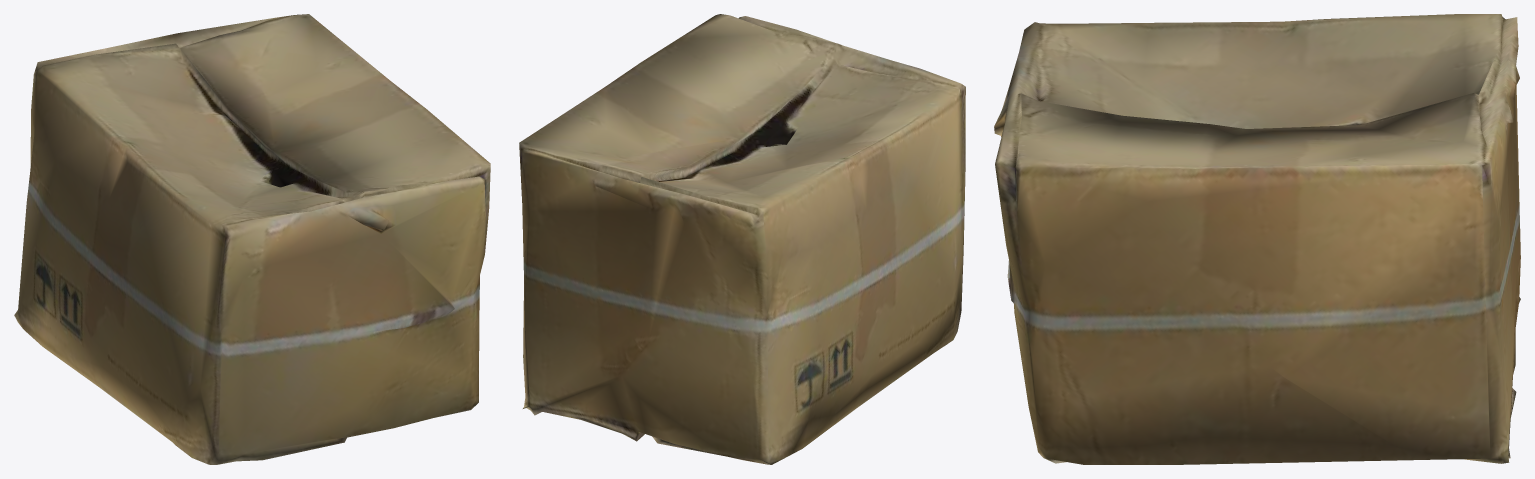
File: cardboard_box_01.glb
3 views of the same model, side by side, from view 1: azimuth 30°, elevation 25°; view 2: azimuth 150°, elevation 25°; view 3: azimuth 270°, elevation 25° (orthographic). The views are drawn at different scales.
Visible parts, largest first — view 1: cardboard_box_01; view 2: cardboard_box_01; view 3: cardboard_box_01.
Part boxes in pixels (x1=…): cardboard_box_01: x1=14, y1=14, x2=490, y2=464; cardboard_box_01: x1=519, y1=14, x2=965, y2=464; cardboard_box_01: x1=994, y1=14, x2=1520, y2=464.
Size of the model in its own units: 0.384 by 0.3394 by 0.5159.
Materials: 1 (1 with a texture image).
